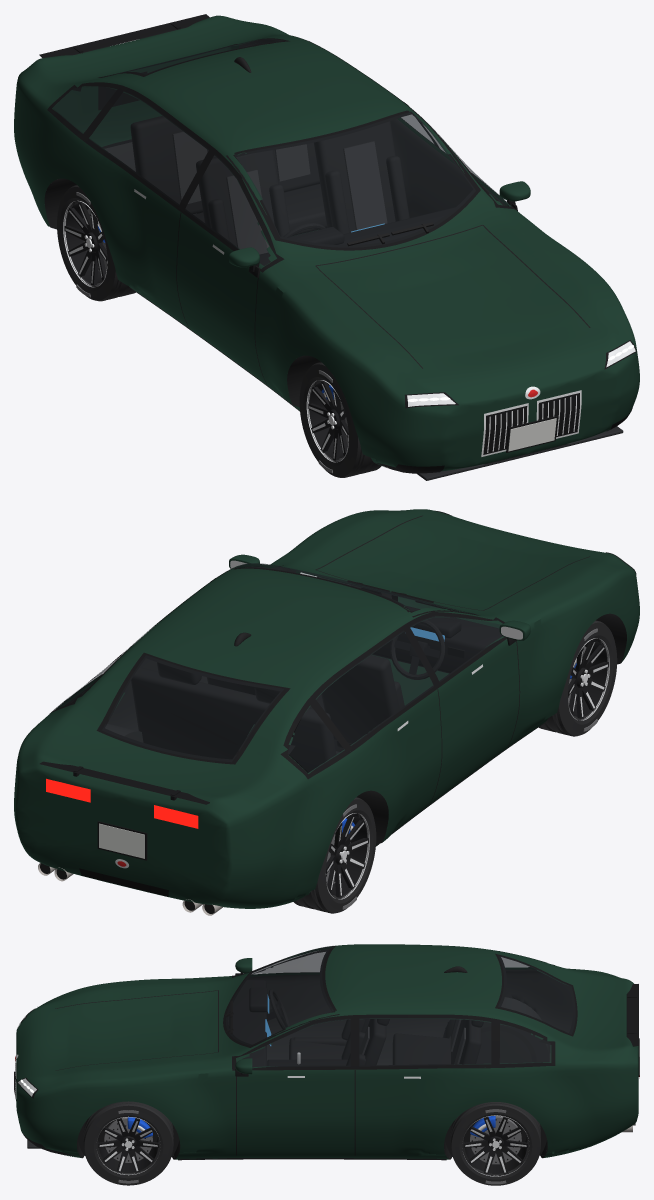
3 renders of one model, top to bottom at view 1: azimuth 30°, elevation 25°; view 2: azimuth 150°, elevation 25°; view 3: azimuth 270°, elevation 25°, orthographic. The views are drawn at different scales.
Parts seen in each view (by area): view 1: Body, Wheel_FR, Wheel_RR; view 2: Body, Wheel_RR, Wheel_FR; view 3: Body, Wheel_FL, Wheel_RL.
Part boxes in pixels (box(x1,y1,x2,y2)): Body: box(14, 14, 639, 480); Wheel_FR: box(299, 362, 381, 477); Wheel_RR: box(57, 185, 135, 301); Body: box(14, 509, 639, 915); Wheel_RR: box(293, 797, 376, 913); Wheel_FR: box(539, 620, 617, 736); Body: box(14, 944, 639, 1160); Wheel_FL: box(83, 1101, 173, 1185); Wheel_RL: box(450, 1102, 540, 1185).
Bounding box in the file's own units: 2.13 × 1.55 × 5.12.
